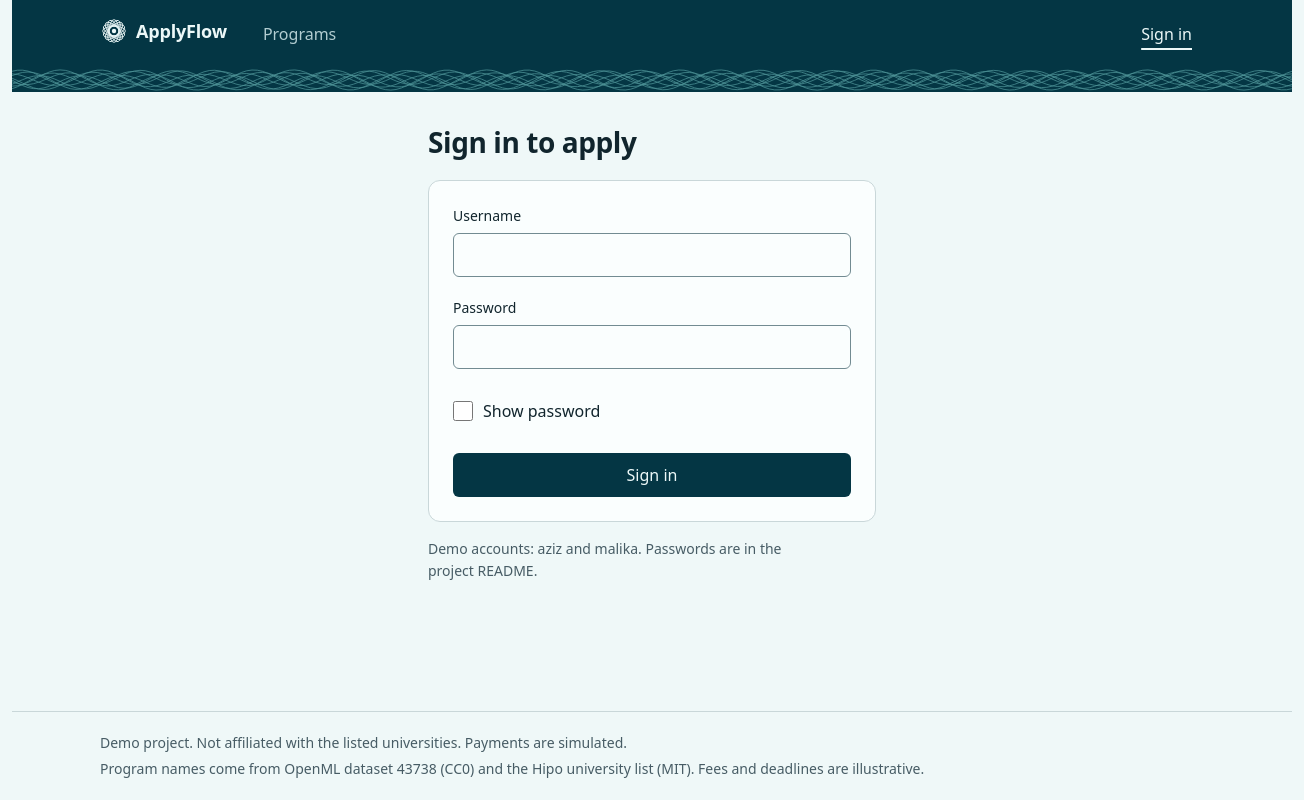
Test: sign-in and route guards › sends a signed-out visitor from a protected page to sign-in and back after signing in
Expected: the heading "Sign in to apply" is shown, [428,123,636,161]
Type "aziz" into the field labelled "Username".
click(652, 255); type("aziz")  # box [453,233,851,277]
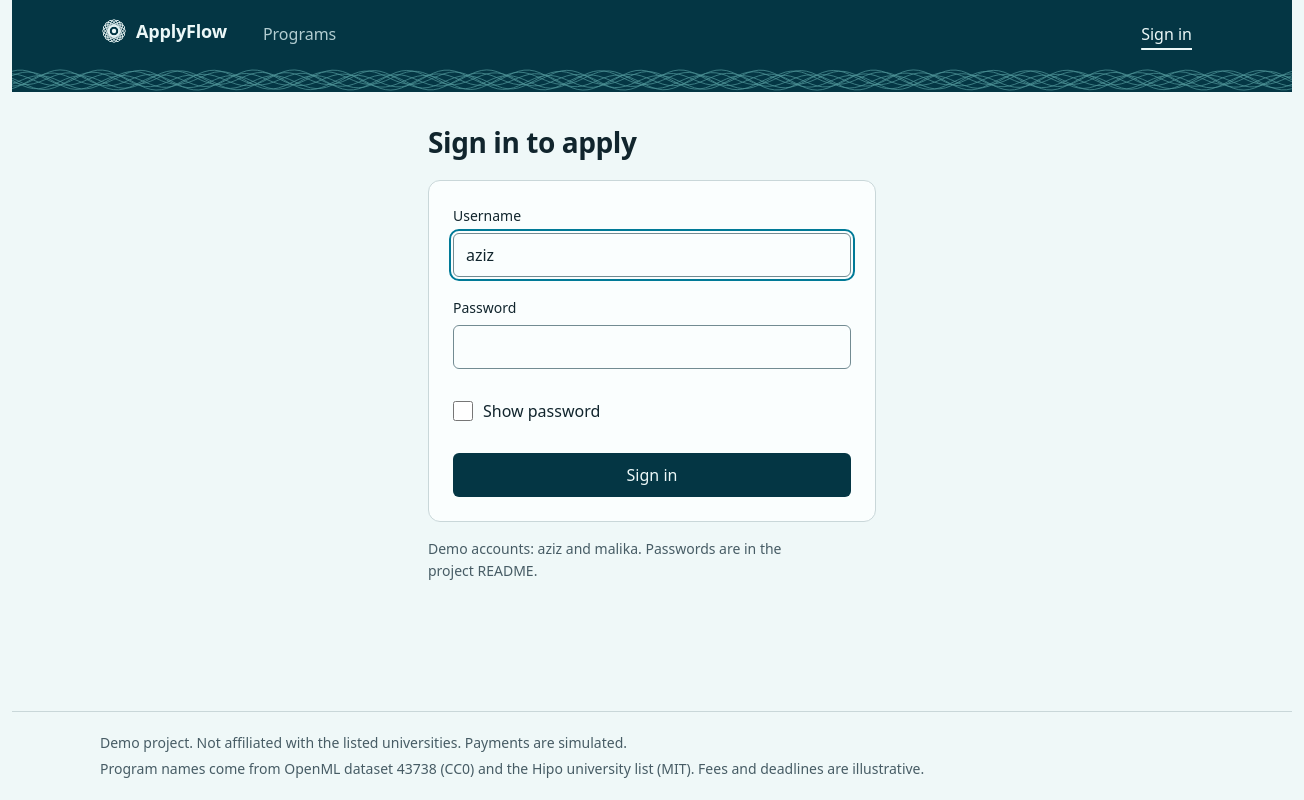
Type "aziz-demo-pass" into the password field labelled "Password".
click(652, 347); type("aziz-demo-pass")  # box [453,325,851,369]
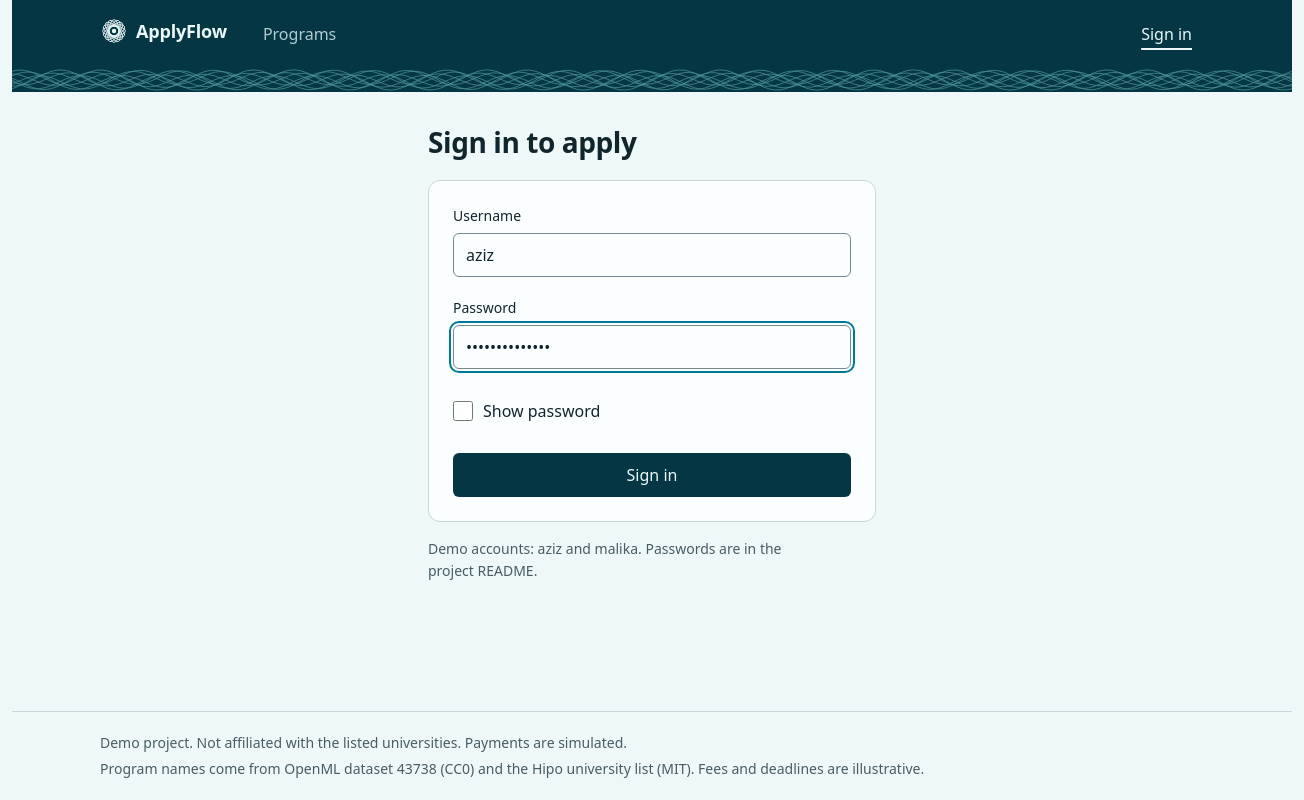
Click the button "Sign in".
click(652, 475)  # box [453,453,851,497]
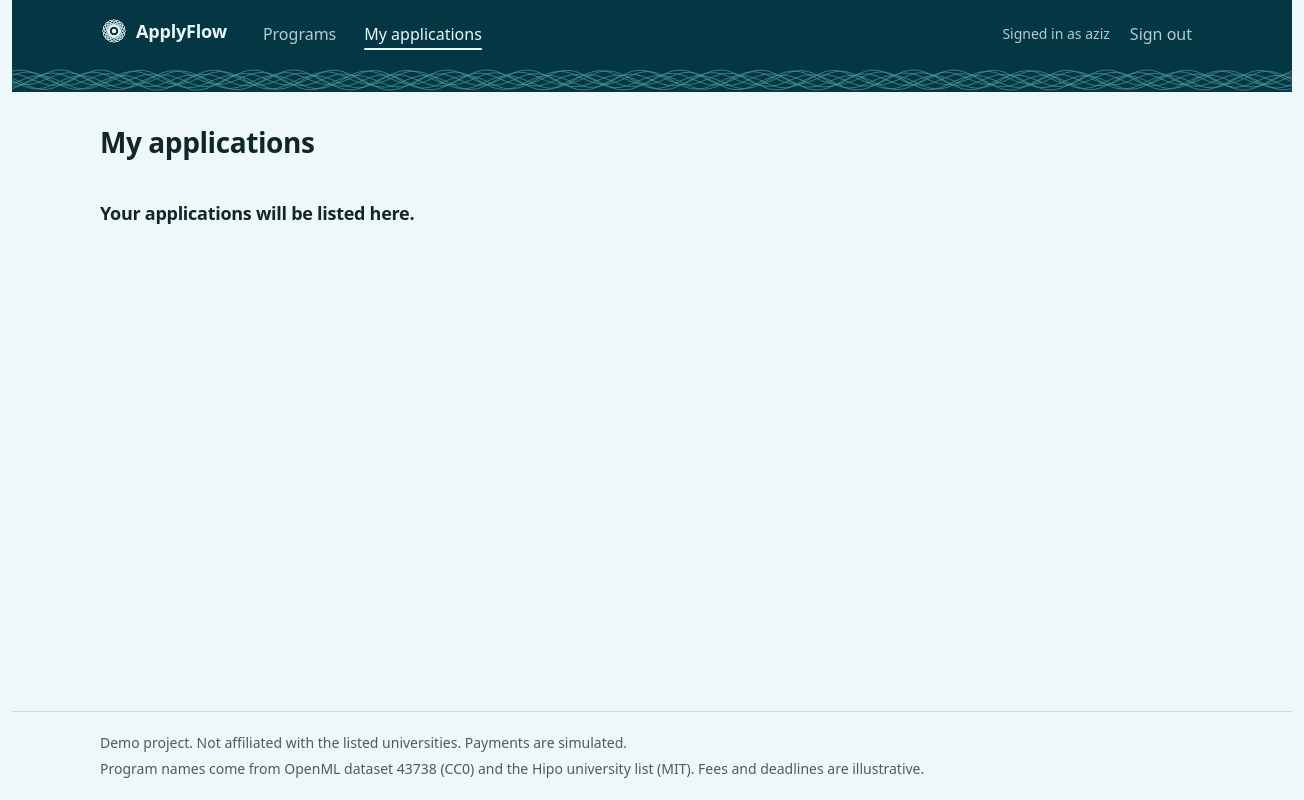
Expected: the heading "My applications" is shown, [100,123,314,161]
Expected: the text "Signed in as aziz" is shown, [1002,23,1110,45]
